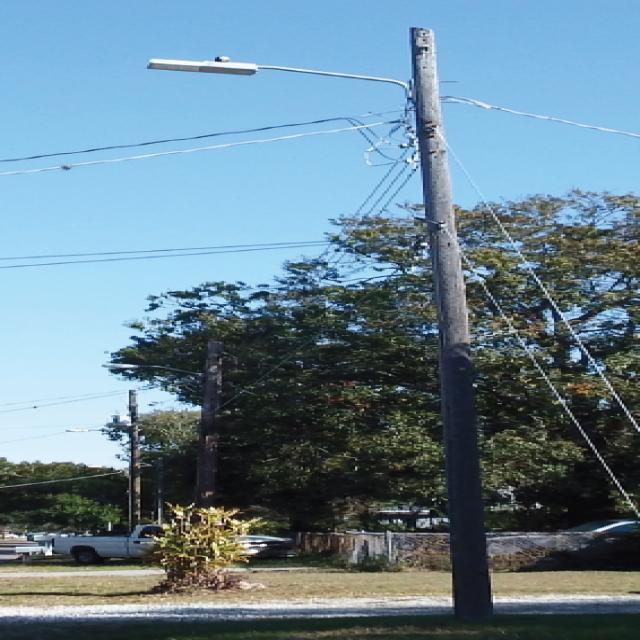Electric pole: (147, 27, 493, 621)
